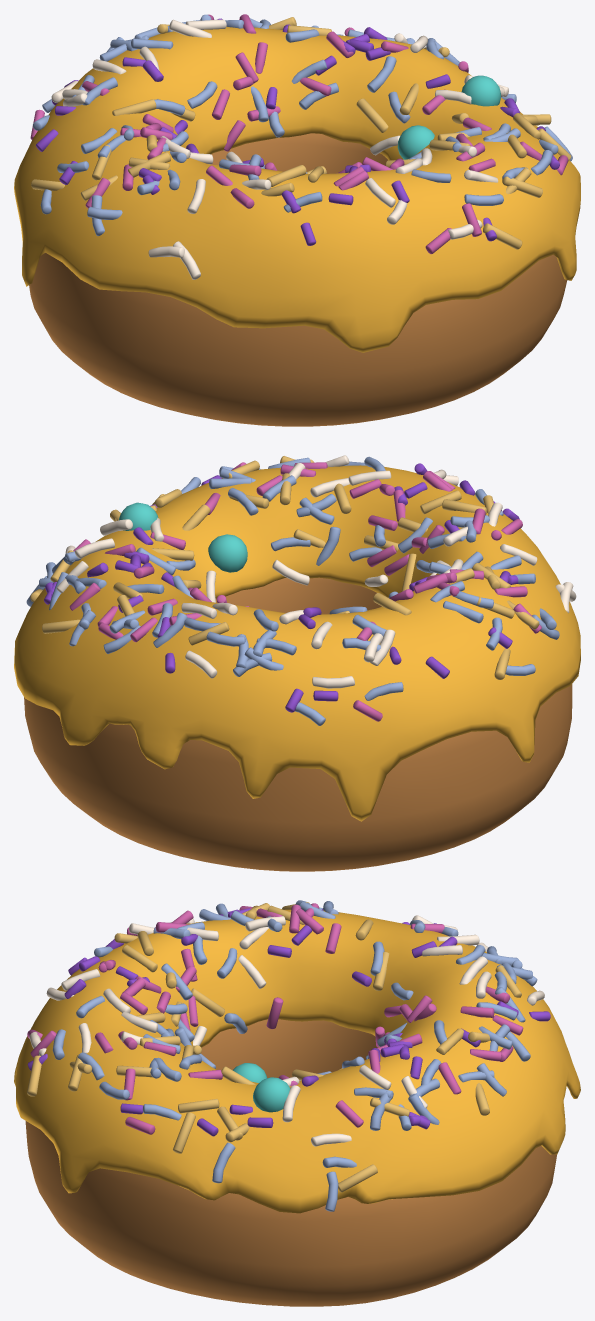
Rendered from SM_donut_yellow.glb.
3 views of the same model, one above another, from view 1: azimuth 30°, elevation 25°; view 2: azimuth 150°, elevation 25°; view 3: azimuth 270°, elevation 25° (orthographic). The views are drawn at different scales.
Visible parts, largest first — view 1: SM_donut_yellow; view 2: SM_donut_yellow; view 3: SM_donut_yellow.
Boxes of the visible parts, left/top/right/bottom form: SM_donut_yellow: left=14, top=14, right=580, bottom=426; SM_donut_yellow: left=14, top=455, right=580, bottom=871; SM_donut_yellow: left=14, top=900, right=580, bottom=1306.
Bounding box in the file's own units: 0.1732 × 0.084 × 0.172.
Materials: 1 (1 with a texture image).
